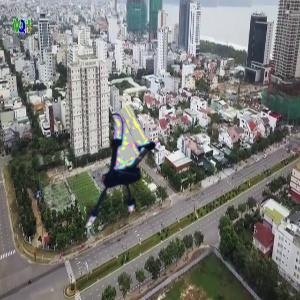drone: (60, 121, 173, 234)
